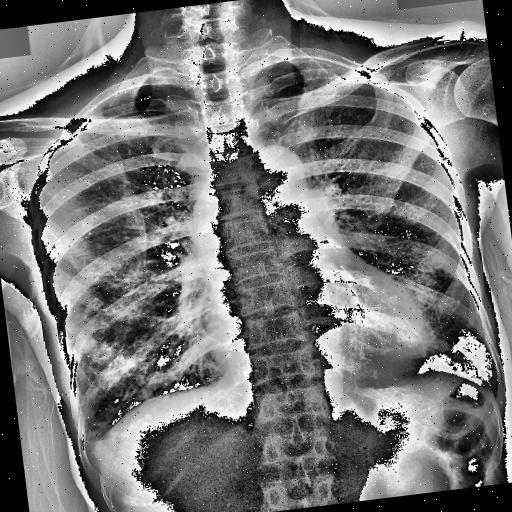0- Aortic enlargement: (246, 144, 309, 202)
10- Pleural effusion: (76, 425, 114, 460)
11- Pleural thickening: (76, 425, 114, 460), (418, 364, 440, 376)
5- ILD: (66, 315, 180, 434)
6- Infiltration: (64, 260, 199, 432), (58, 260, 172, 444)
7- Lung Opacity: (58, 260, 172, 444)
8- Nodule-Mass: (392, 322, 428, 350), (140, 368, 176, 394), (393, 326, 427, 350)
